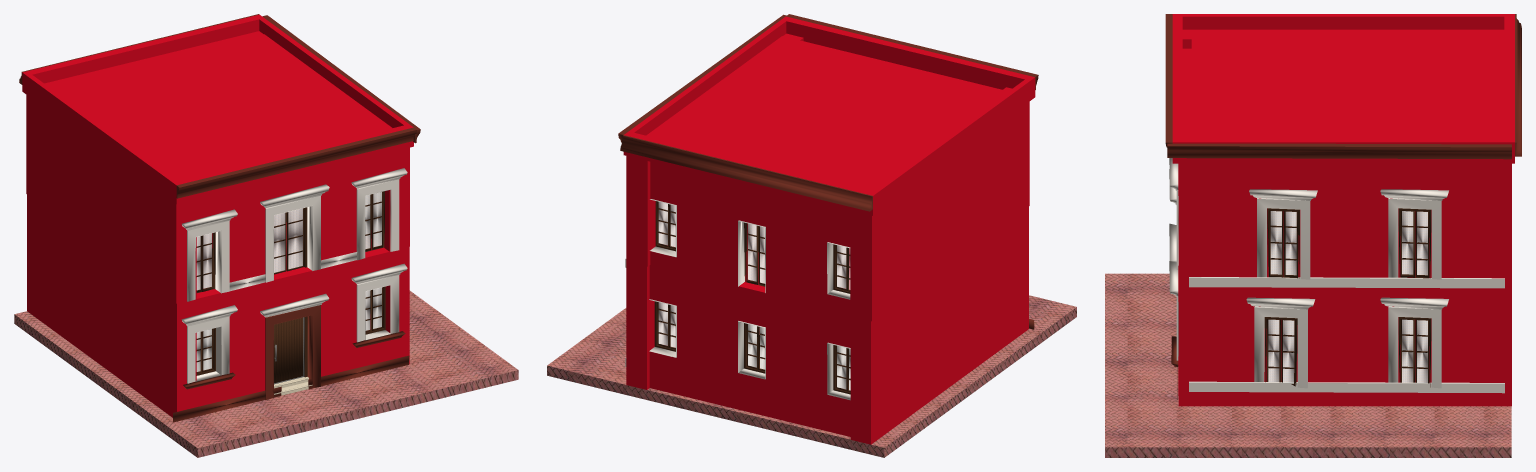
The model's file is casaroja_optim.obj.
3 views of the same model, side by side, from view 1: azimuth 30°, elevation 25°; view 2: azimuth 150°, elevation 25°; view 3: azimuth 270°, elevation 25° (orthographic). The views are drawn at different scales.
Visible parts, largest first — view 1: Cube.001; view 2: Cube.001; view 3: Cube.001.
Boxes of the visible parts, left/top/right/bottom form: Cube.001: left=14, top=14, right=518, bottom=457; Cube.001: left=547, top=14, right=1076, bottom=457; Cube.001: left=1105, top=14, right=1521, bottom=457.
Bounding box in the file's own units: 12.29 × 9.08 × 12.46.
